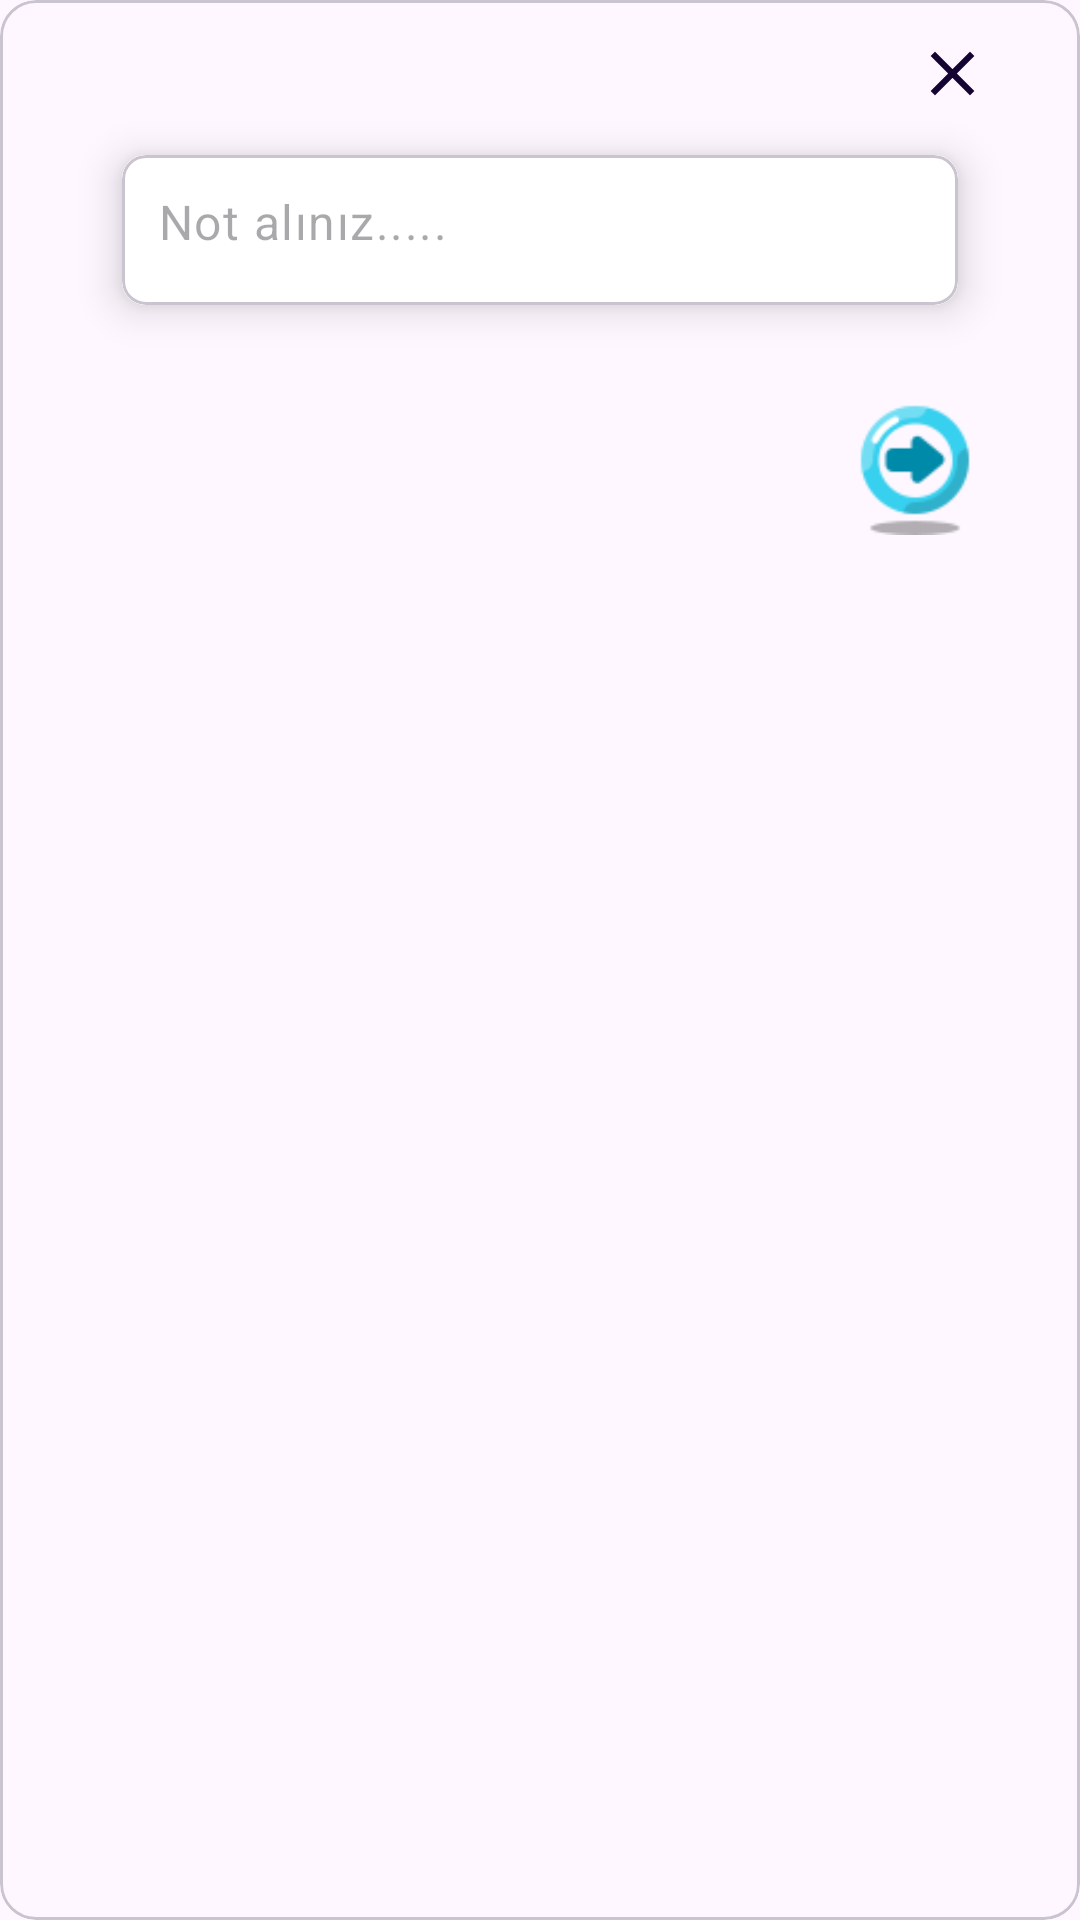

Where to tap for icons on this 1080×1920 app screen, as (x,y):
close: (952,73)
nextt: (915,470)
